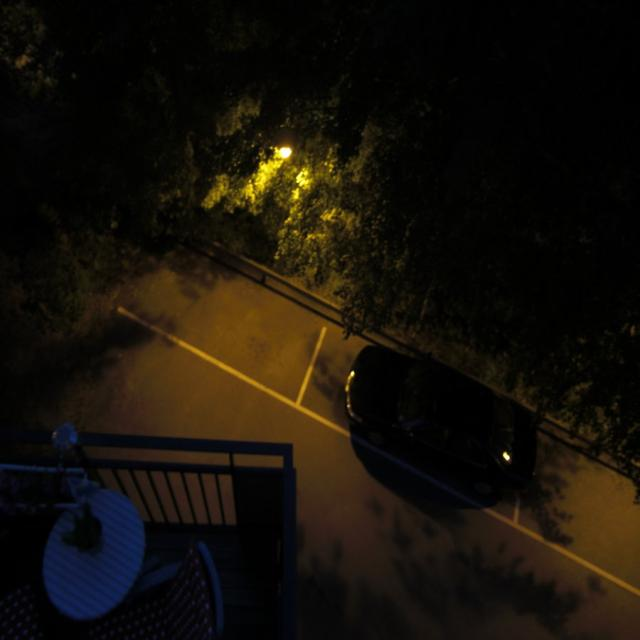Table: (33, 484, 144, 626)
car: (335, 336, 582, 526)
chair: (146, 527, 241, 631)
